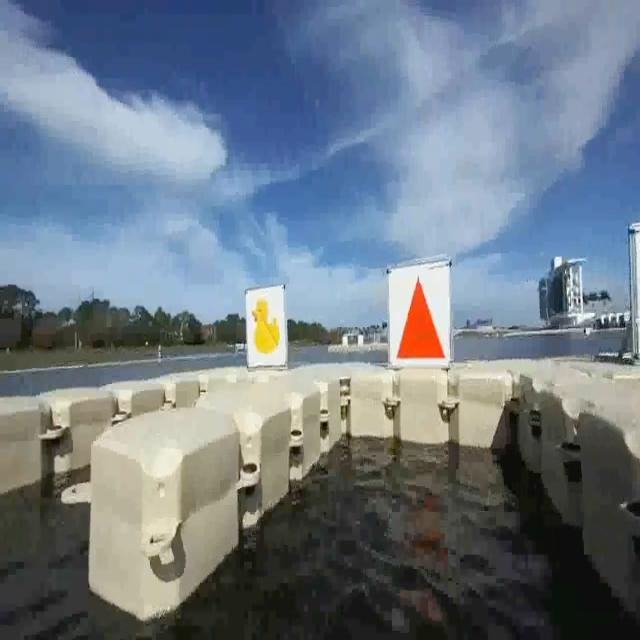red-dot: (387, 264, 448, 366)
yellow-duck: (252, 295, 282, 357)
